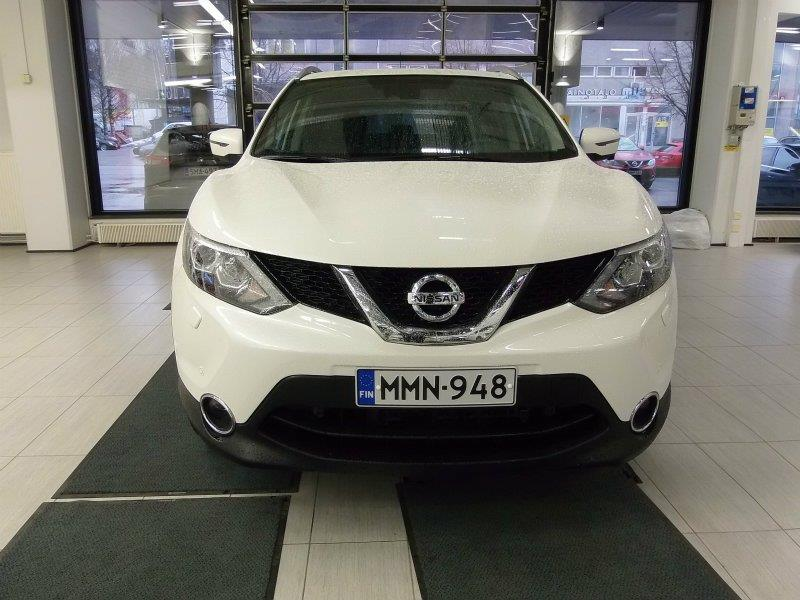license: (350, 367, 518, 415)
